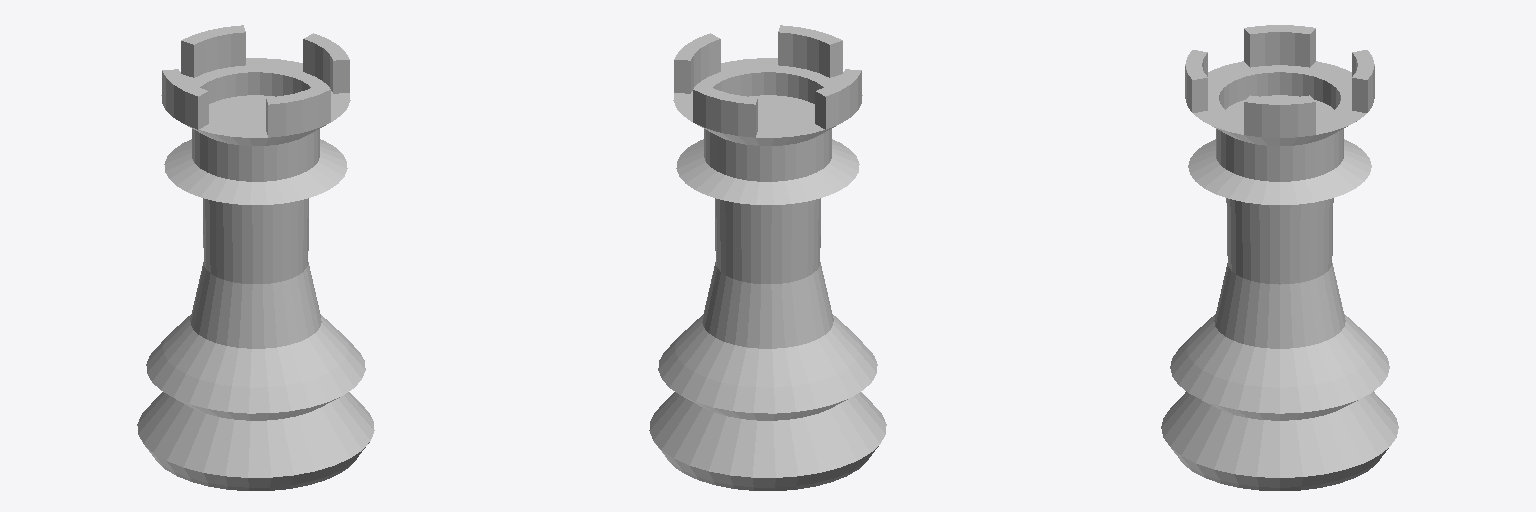
Rendered from torre.obj.
3 views of the same model, side by side, from view 1: azimuth 30°, elevation 25°; view 2: azimuth 150°, elevation 25°; view 3: azimuth 270°, elevation 25° (orthographic).
Parts seen in each view (by area): view 1: Cylinder.000; view 2: Cylinder.000; view 3: Cylinder.000.
Part boxes in pixels (bbox=[...]): Cylinder.000: bbox=[137, 25, 374, 490]; Cylinder.000: bbox=[649, 25, 886, 490]; Cylinder.000: bbox=[1161, 25, 1398, 490].
Bounding box in the file's own units: 1.46 × 2.59 × 1.46.